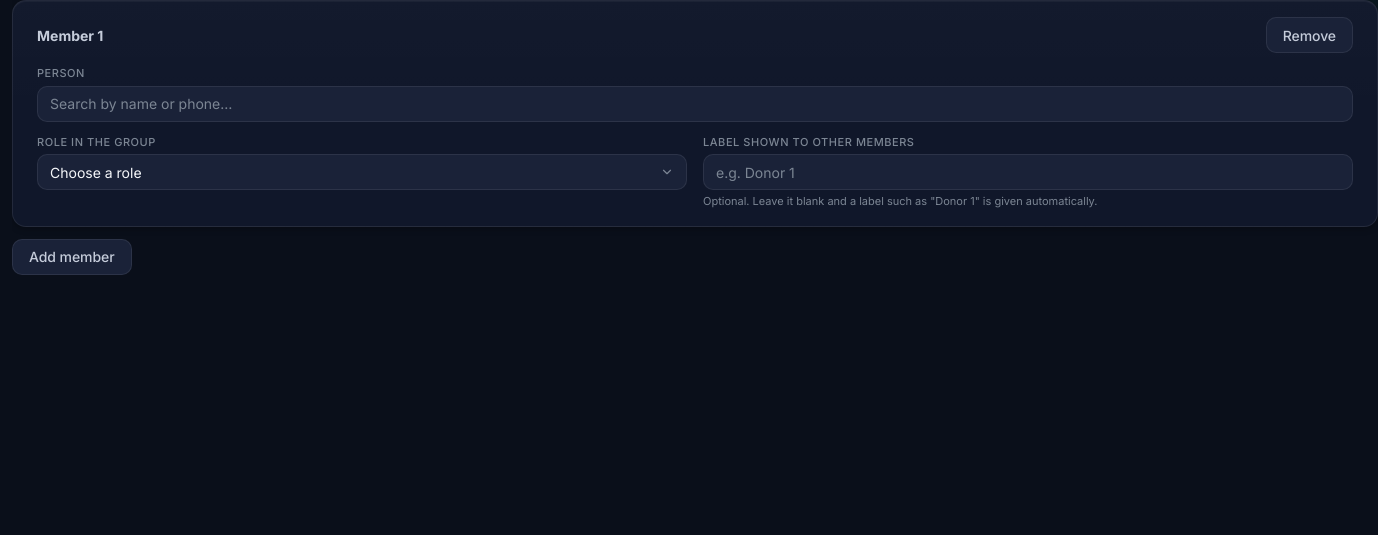
MemberRowsEditor › adds a row, and removing the first row keeps what was typed in the second
Click the button "Add member": (72, 257) x1=12 y1=239 x2=132 y2=275
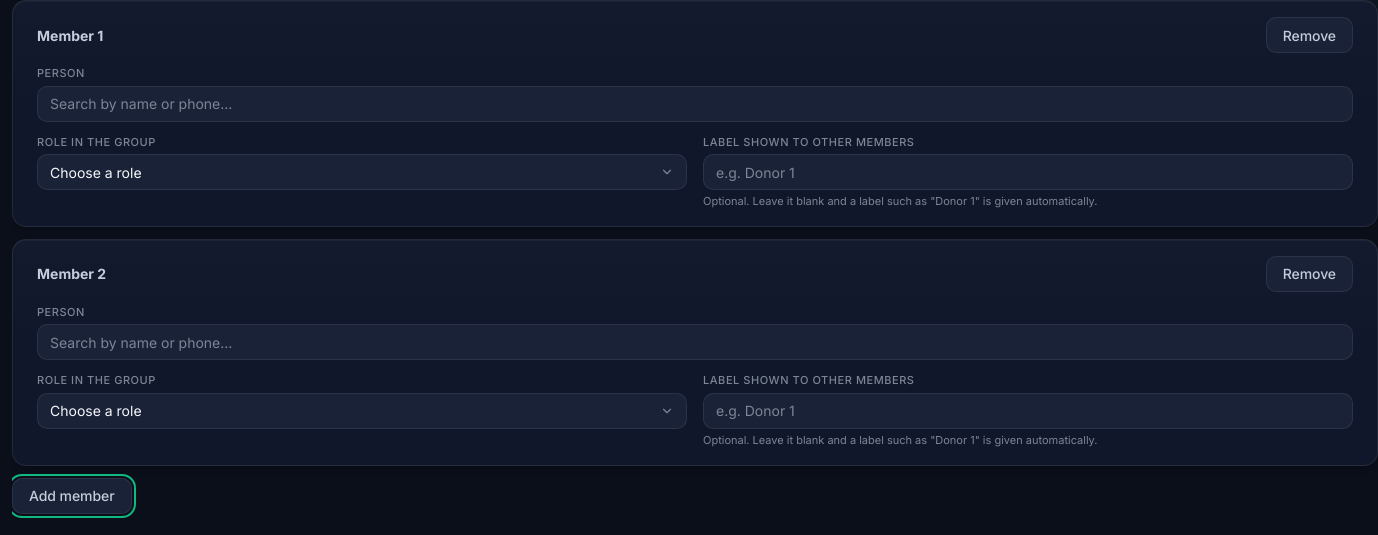
In the 2nd field labelled "Label shown to other members": (1028, 411) x1=703 y1=393 x2=1353 y2=429, type "Second"
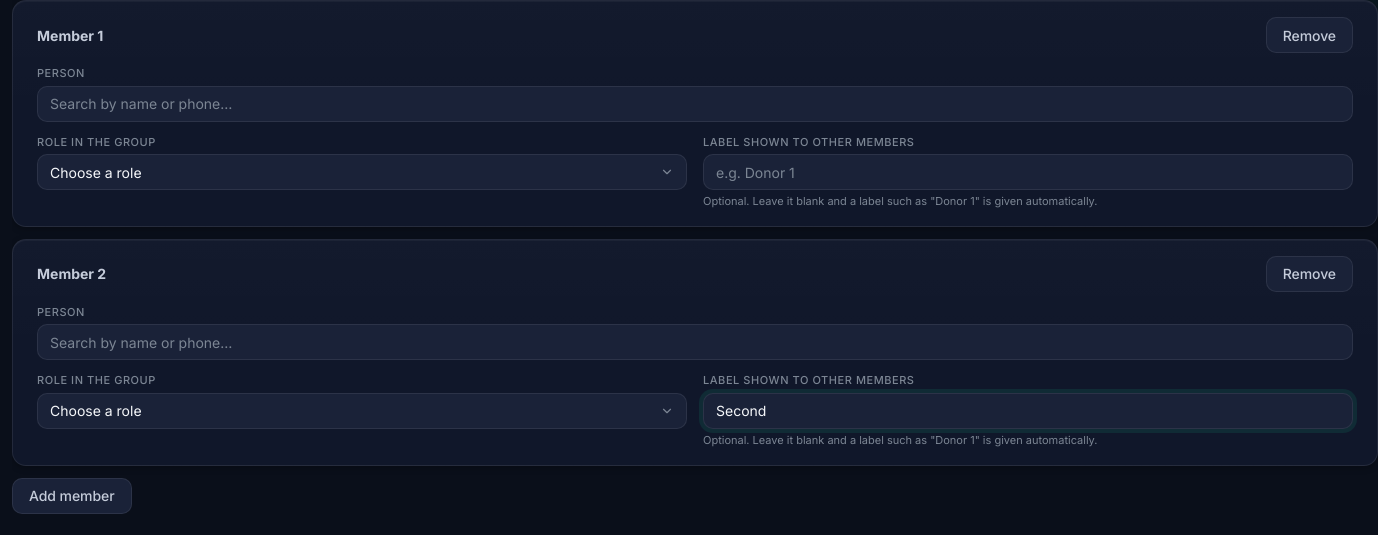
Click the button with aria-label "Remove member 1": (1309, 35) x1=1266 y1=17 x2=1353 y2=53
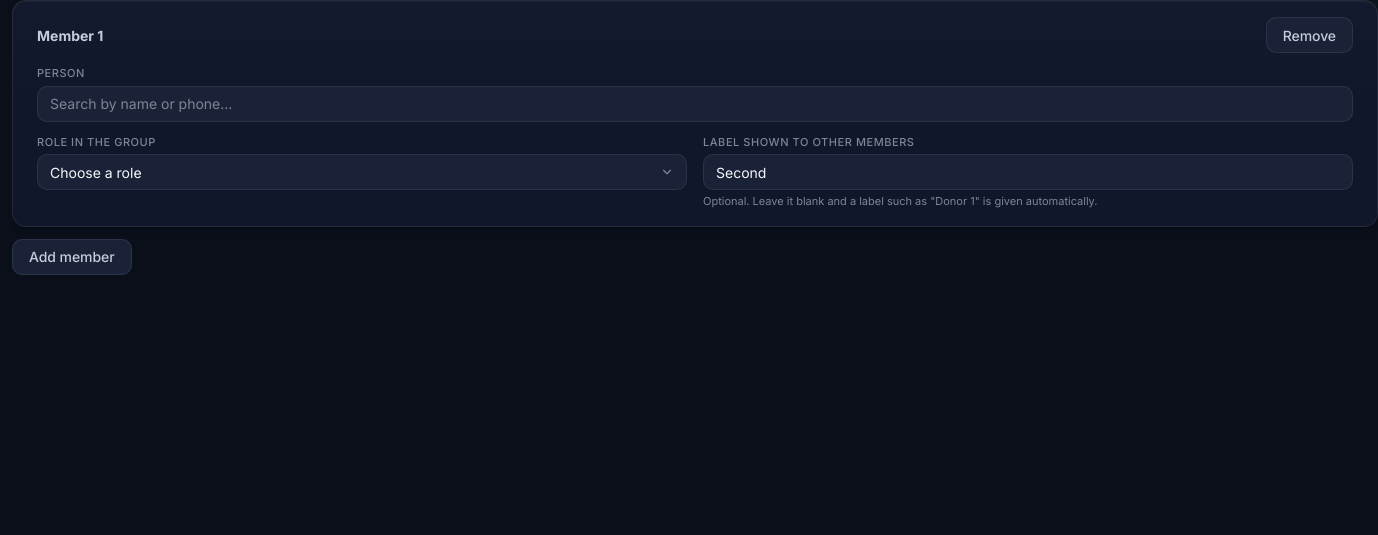
Now the text "Member 2" is gone
